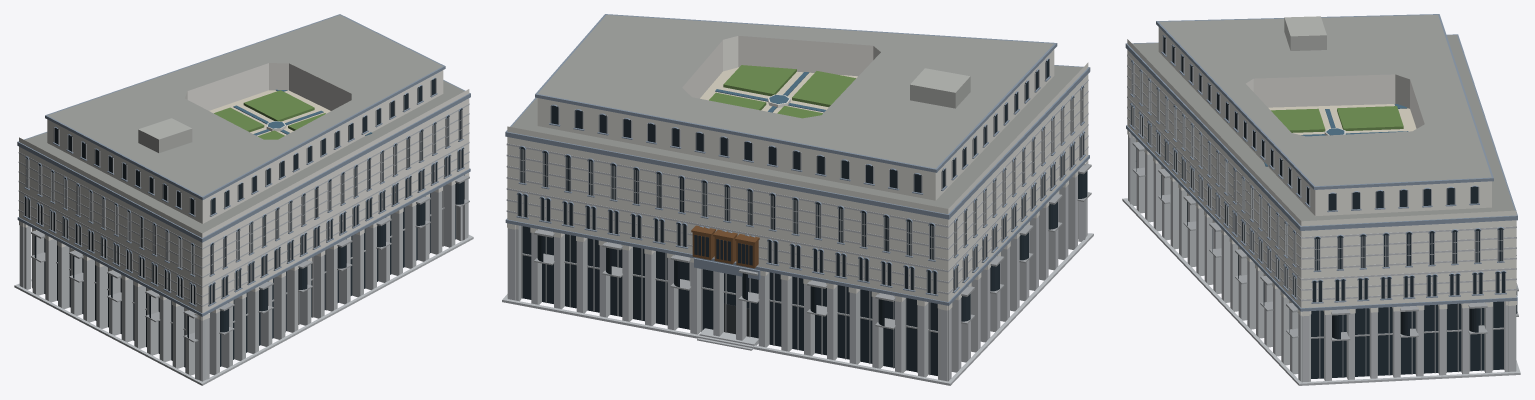
Rendered from ismaili_centre.glb.
The picture shows the model from 3 angles, left to right: view 1: azimuth 30°, elevation 25°; view 2: azimuth 150°, elevation 25°; view 3: azimuth 270°, elevation 25°; orthographic projection. The views are drawn at different scales.
Bounding box in the file's own units: 52.61 × 25 × 43.4.
